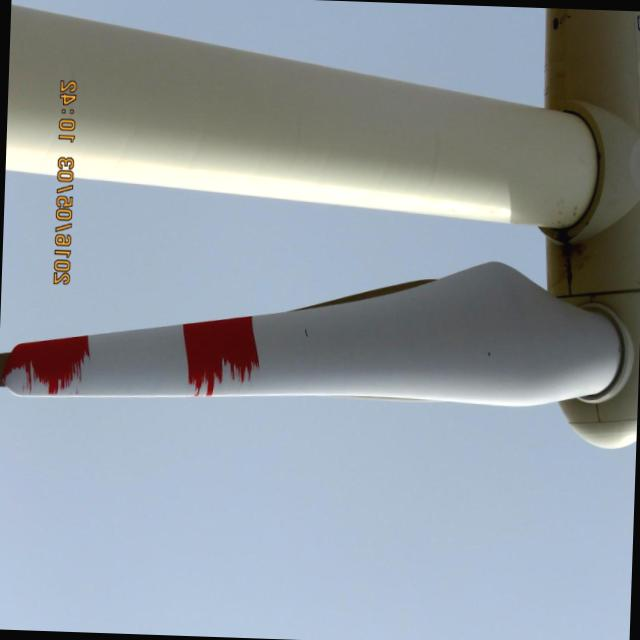surface_peeling: (178, 312, 262, 394), (7, 330, 91, 395)
